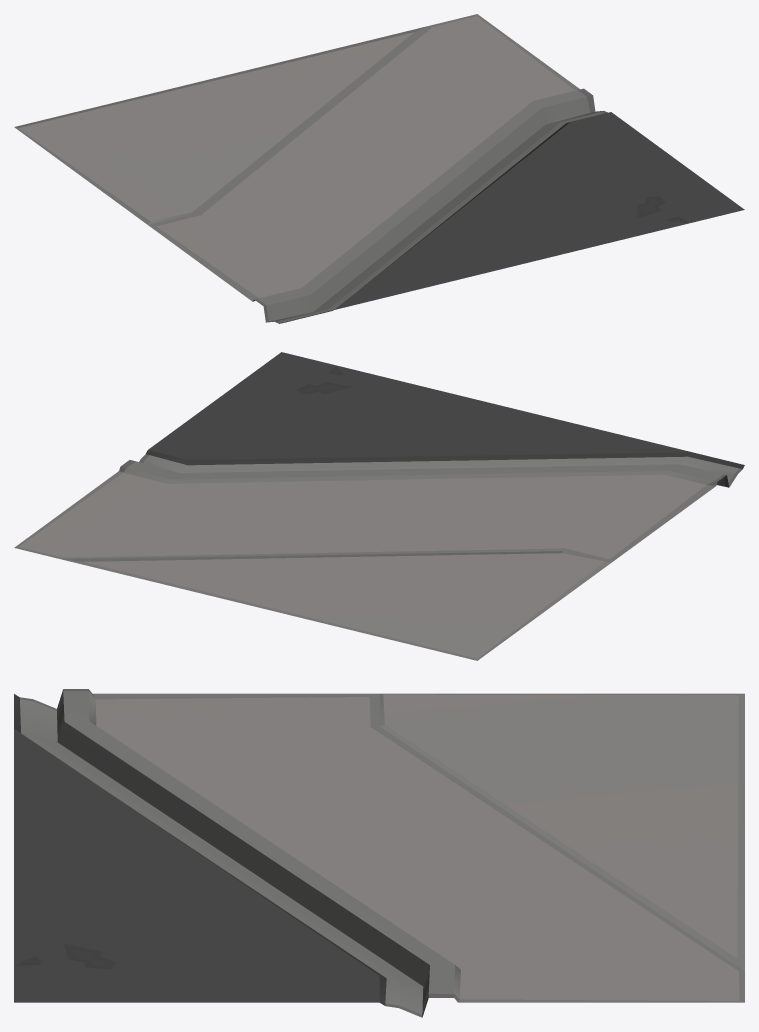
Rendered from SM_Env_Road_Transition_01.fbx.
3 renders of one model, top to bottom at view 1: azimuth 30°, elevation 25°; view 2: azimuth 150°, elevation 25°; view 3: azimuth 270°, elevation 25°, orthographic. The views are drawn at different scales.
Visible parts, largest first — view 1: SM_Env_Road_Transition_01; view 2: SM_Env_Road_Transition_01; view 3: SM_Env_Road_Transition_01.
Boxes of the visible parts, x1,y1,x2,y2 form: SM_Env_Road_Transition_01: (14,14,744,323); SM_Env_Road_Transition_01: (14,352,744,660); SM_Env_Road_Transition_01: (14,689,744,1017).
Bounding box in the file's own units: 500 × 16.27 × 500.
